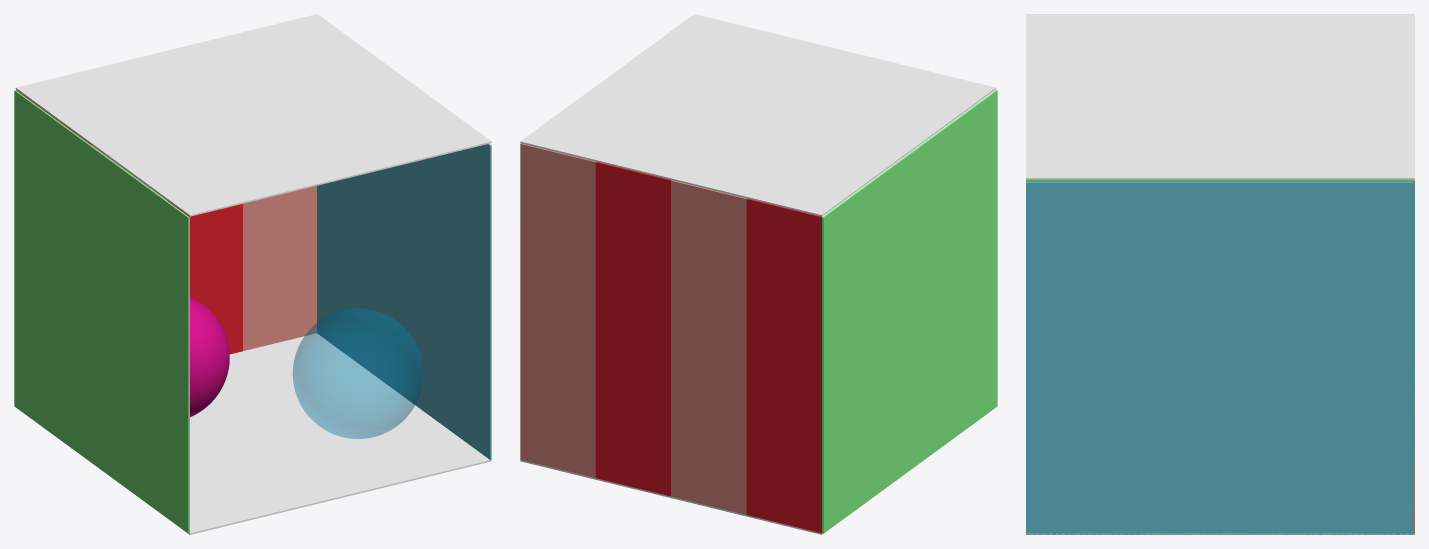
Rendered from CornellBox-Sphere-pbr.obj.
3 views of the same model, side by side, from view 1: azimuth 30°, elevation 25°; view 2: azimuth 150°, elevation 25°; view 3: azimuth 270°, elevation 25° (orthographic). The views are drawn at different scales.
Visible parts, largest first — view 1: obj_5, obj_4, obj_2, obj_3, obj_9, obj_7, obj_6, obj_10; view 2: obj_5, obj_4, obj_0, obj_6, obj_7, obj_8, obj_3; view 3: obj_2, obj_4, obj_5, obj_3.
Boxes of the visible parts, x1,y1,x2,y2 form: obj_5: (14, 90, 189, 533); obj_4: (15, 14, 491, 216); obj_2: (317, 143, 491, 459); obj_3: (25, 333, 491, 534); obj_9: (293, 308, 422, 438); obj_7: (243, 186, 316, 350); obj_6: (167, 200, 242, 354); obj_10: (190, 297, 229, 416); obj_5: (822, 90, 997, 533); obj_4: (520, 14, 996, 216); obj_0: (746, 198, 822, 533); obj_6: (595, 161, 671, 496); obj_7: (520, 143, 595, 477); obj_8: (671, 180, 746, 514); obj_3: (520, 414, 986, 534); obj_2: (1026, 182, 1414, 534); obj_4: (1026, 14, 1414, 179); obj_5: (1026, 180, 1412, 181); obj_3: (1026, 533, 1414, 534).
Size of the model in its own units: 2.01 by 2.03 by 2.
